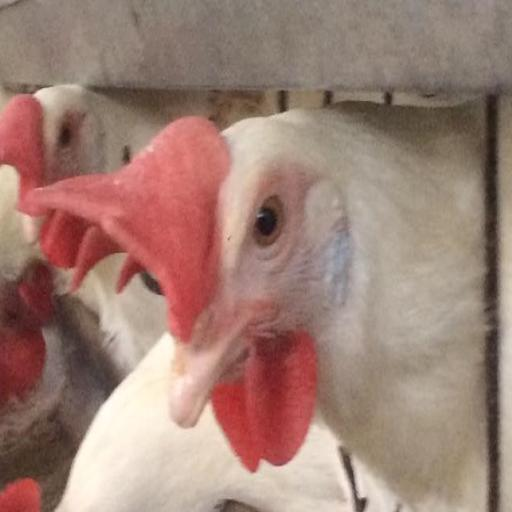healthy: (59, 83, 359, 485)
